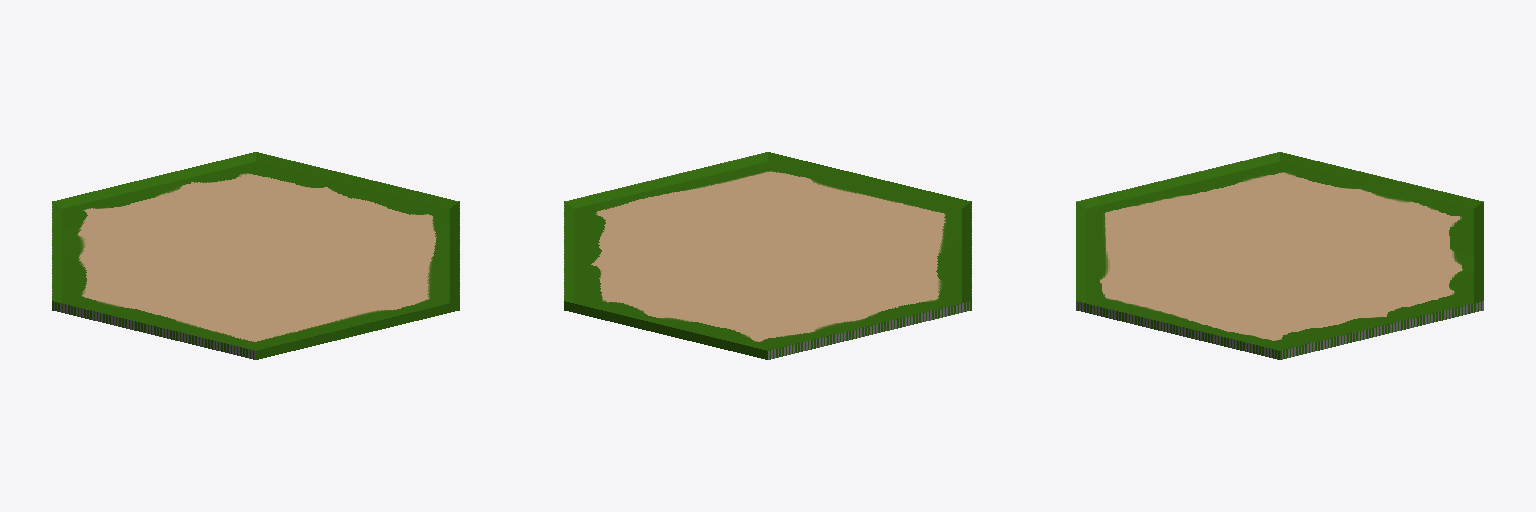
3 renders of one model, left to right at view 1: azimuth 30°, elevation 25°; view 2: azimuth 150°, elevation 25°; view 3: azimuth 270°, elevation 25°, orthographic.
Visible parts, largest first — view 1: pCylinder1; view 2: pCylinder1; view 3: pCylinder1.
Part boxes in pixels (left/top/right/bottom): pCylinder1: left=52, top=152, right=459, bottom=359; pCylinder1: left=564, top=152, right=971, bottom=359; pCylinder1: left=1076, top=152, right=1483, bottom=359.
Size of the model in its own units: 6.92 by 0.1506 by 6.
1 materials, 1 textured.